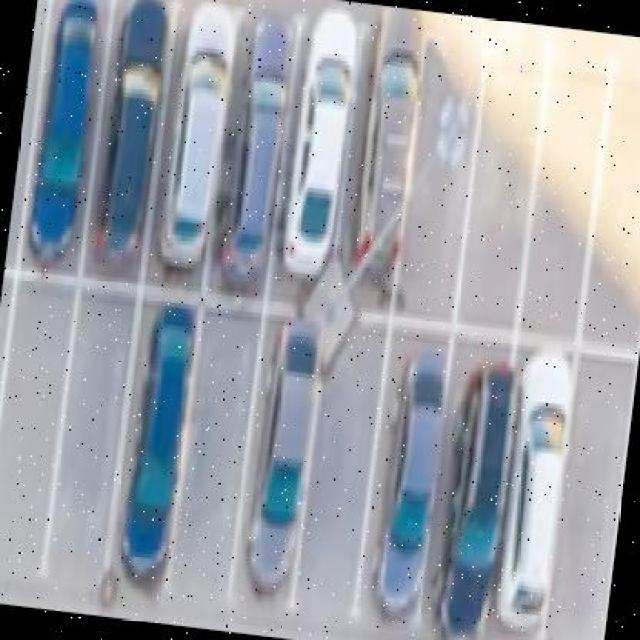Car: (337, 29, 426, 303), (219, 26, 301, 284), (160, 12, 240, 273), (241, 338, 316, 601), (277, 27, 357, 263), (122, 313, 198, 549), (504, 364, 576, 604), (380, 355, 447, 604), (97, 4, 166, 244), (444, 363, 512, 603), (37, 8, 100, 237), (3, 315, 67, 532)
Empty: (47, 307, 138, 558), (403, 78, 477, 287), (301, 378, 372, 593), (181, 361, 250, 570), (558, 395, 624, 610), (524, 104, 595, 303), (472, 84, 536, 276), (596, 115, 640, 321)
